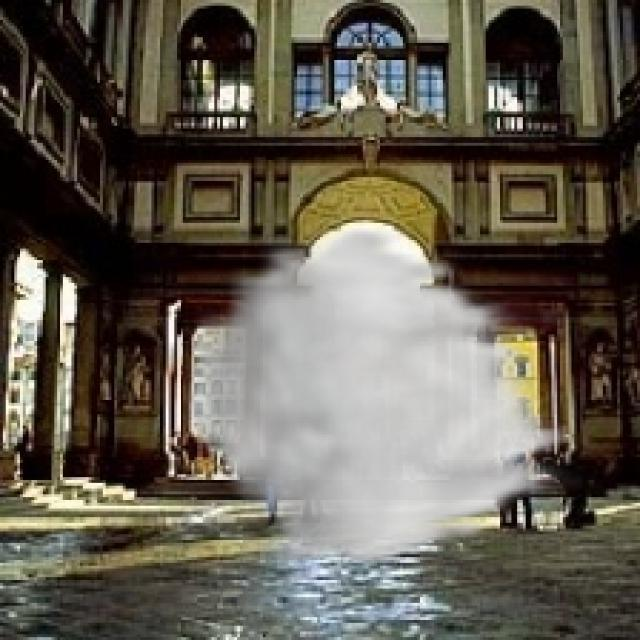Smoke: (177, 222, 586, 568)
